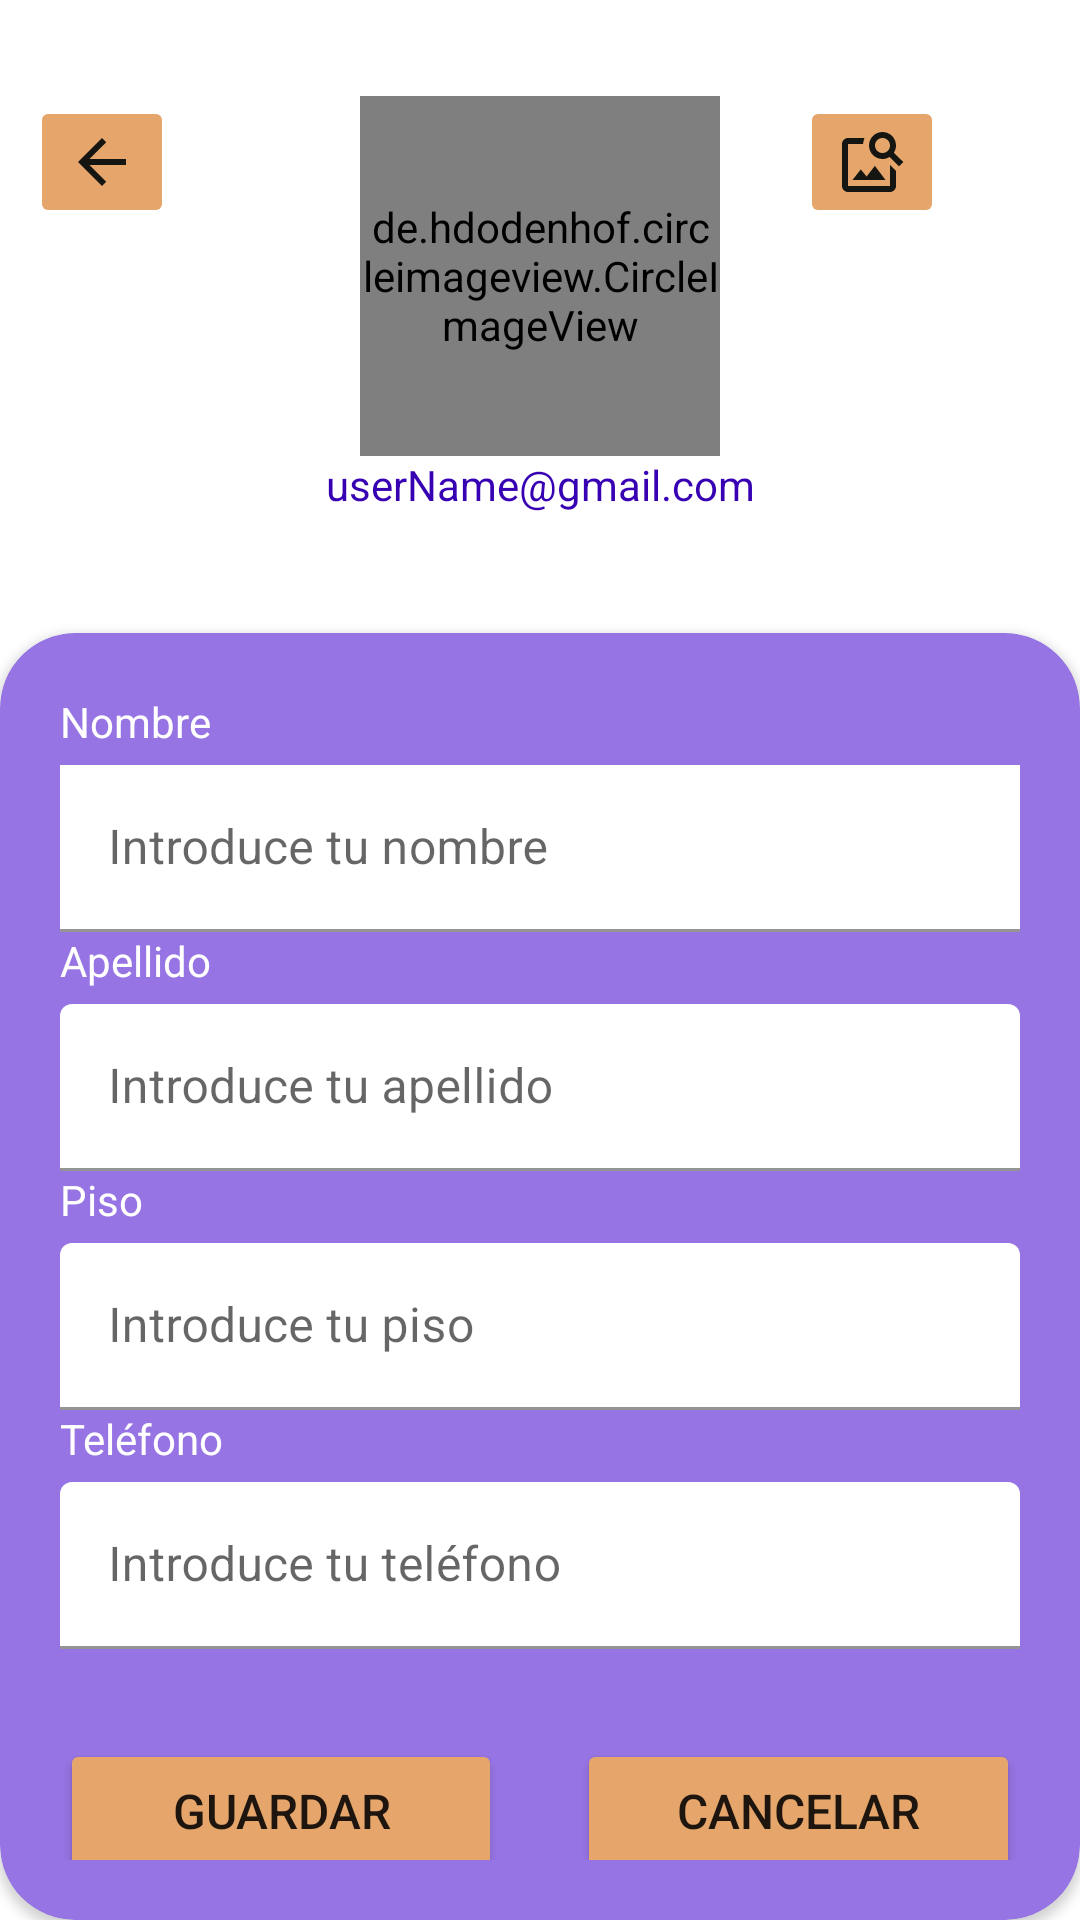

Locate icon controls on the screen. Image size 1080*1920, boxes as bbox(x1, y1, x2, y2).
arrow back: bbox(42, 114, 162, 210)
search: bbox(812, 114, 932, 210)
